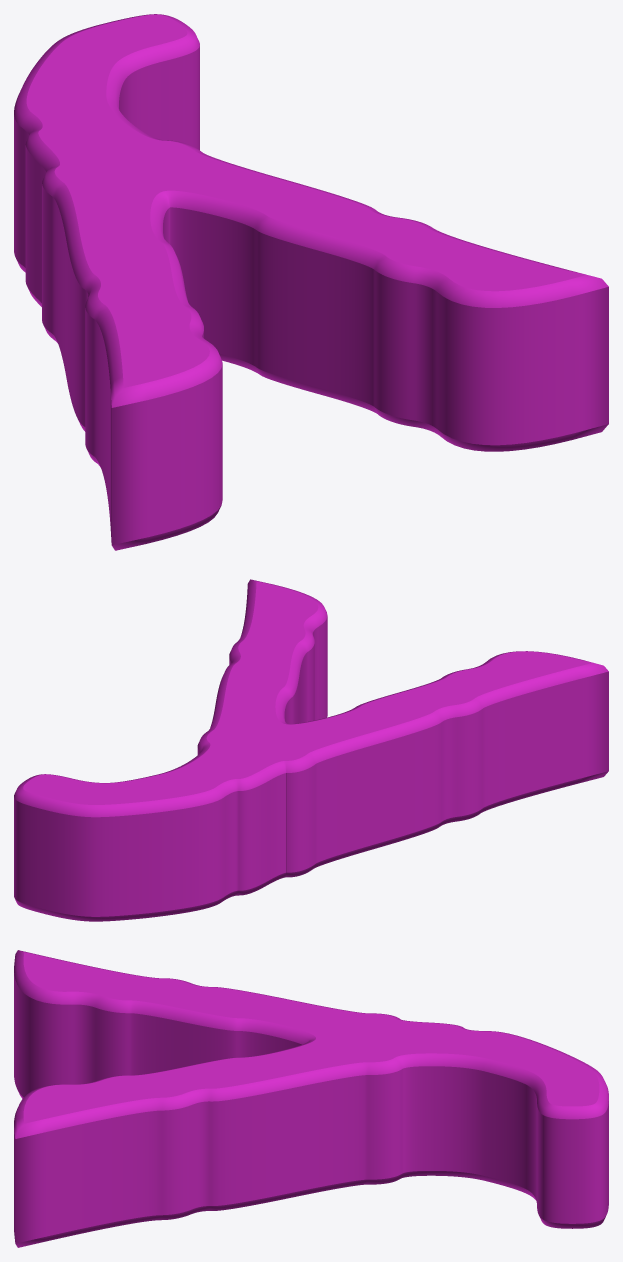
Rendered from Blocky_Letter_y.fbx.
3 views of the same model, one above another, from view 1: azimuth 30°, elevation 25°; view 2: azimuth 150°, elevation 25°; view 3: azimuth 270°, elevation 25° (orthographic). The views are drawn at different scales.
Visible parts, largest first — view 1: BlockyLetter_y; view 2: BlockyLetter_y; view 3: BlockyLetter_y.
Part boxes in pixels (x1=…): BlockyLetter_y: x1=14, y1=14, x2=608, y2=550; BlockyLetter_y: x1=14, y1=579, x2=608, y2=921; BlockyLetter_y: x1=14, y1=950, x2=608, y2=1247.
Size of the model in its own units: 0.4551 by 0.14 by 0.6187.
